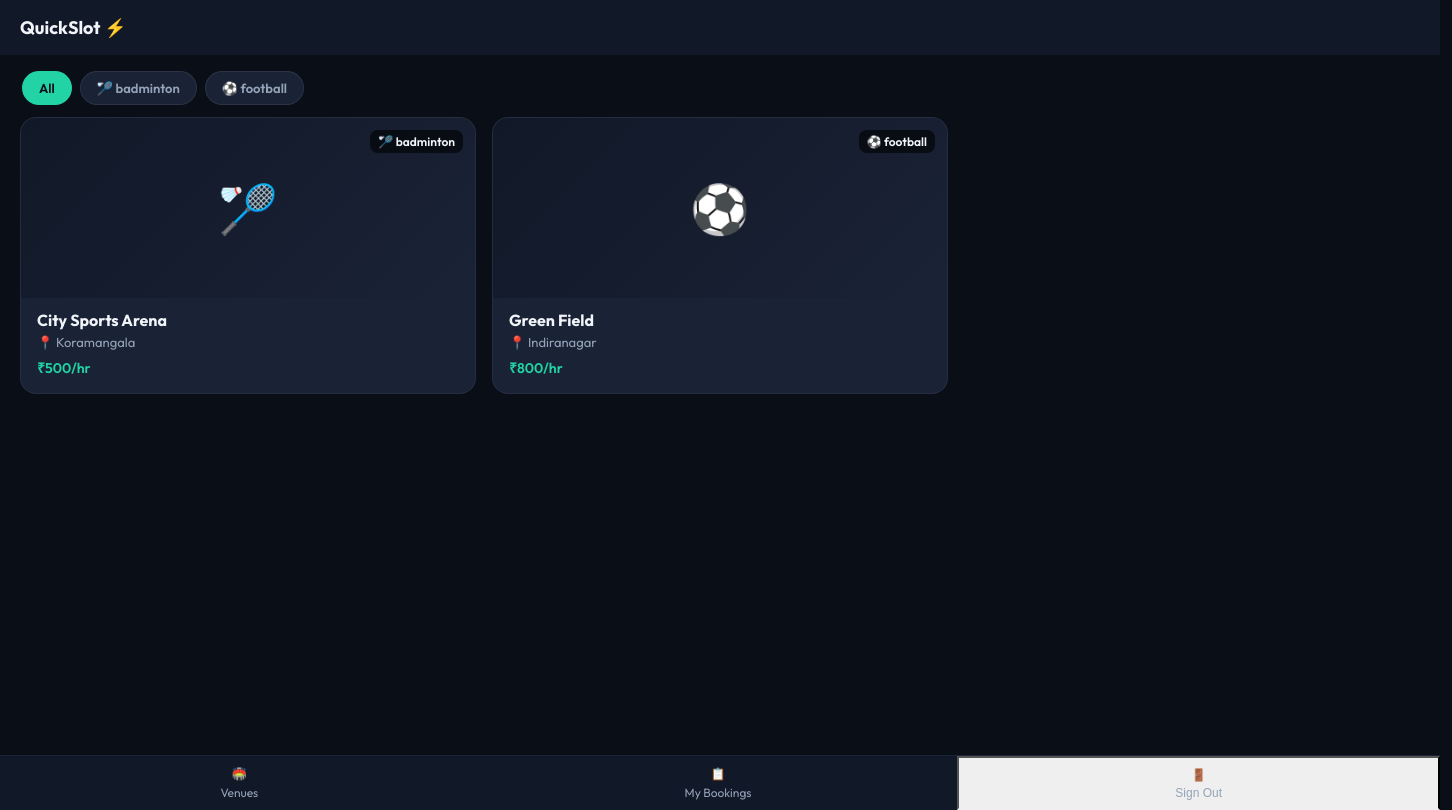
Test: VenueListPage › filtering by sport shows only matching venues
Click the tab "🏸 badminton" at (138, 88), box x1=80 y1=71 x2=197 y2=105
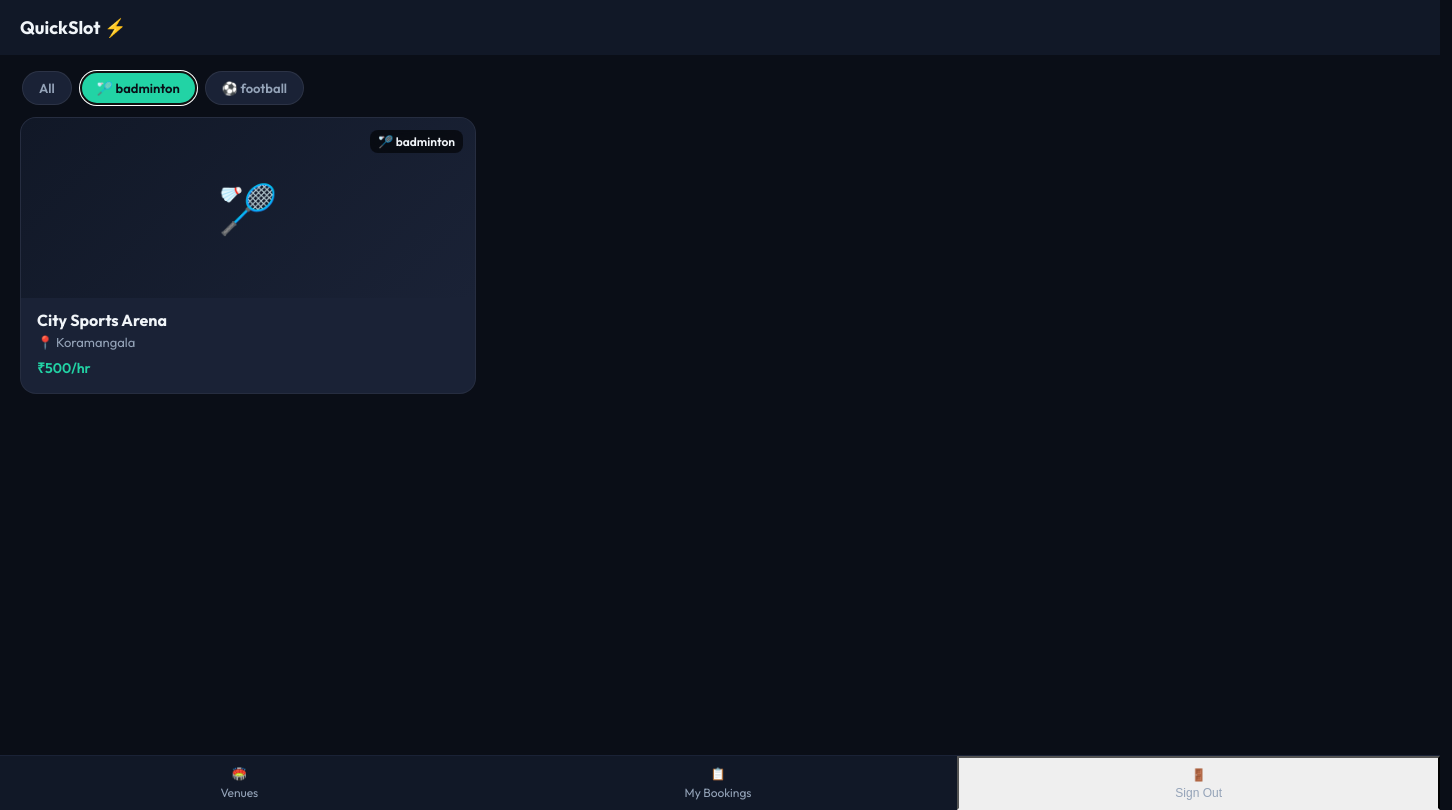
Expected: the text "City Sports Arena" is shown, x1=37 y1=310 x2=167 y2=330
Expected: the button "Green Field" is gone
